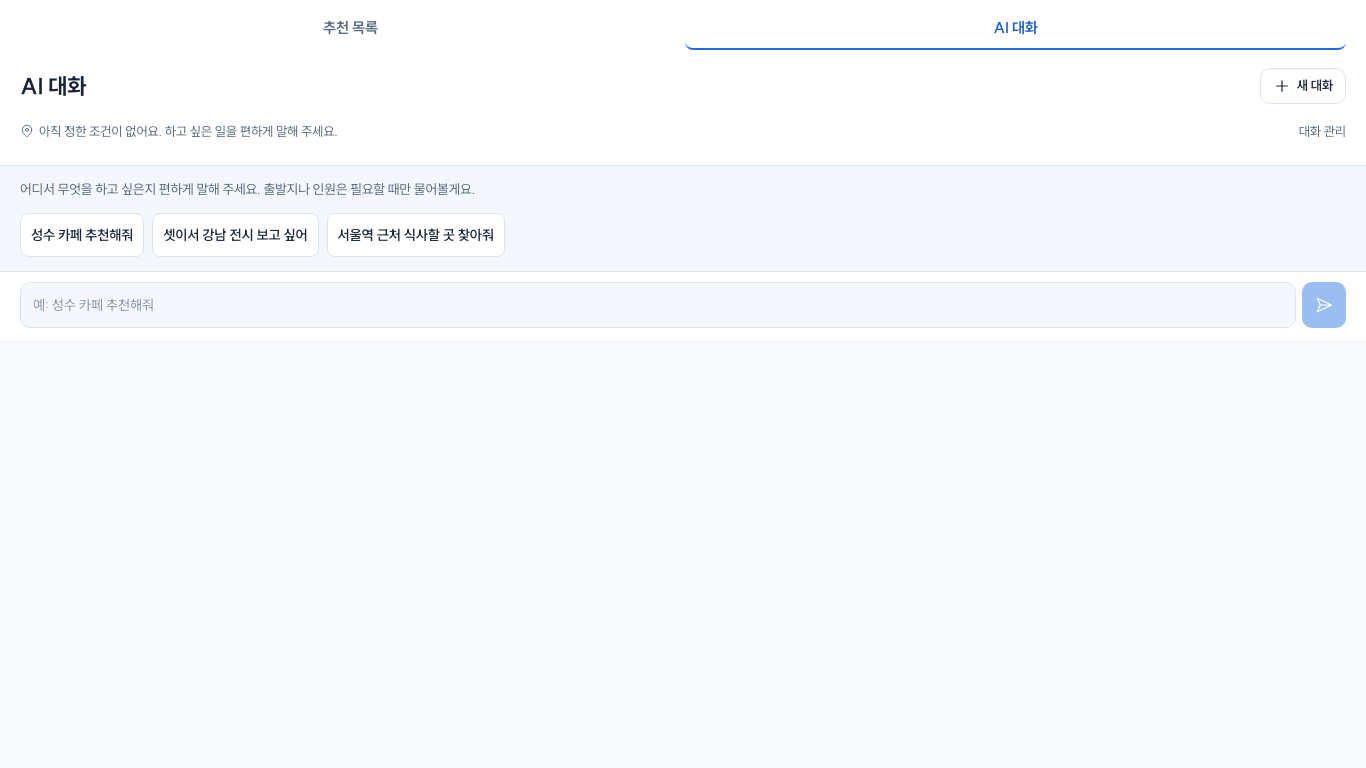
ChatPanel › UI-01 자유 입력으로 지역 카드를 받고, 가짜 이동시간 없이 표시 순서임을 알린다
Type "성수 카페 추천해줘" into the field named "AI에게 보낼 메시지". click: (658, 305)
box: [20, 282, 1296, 328]
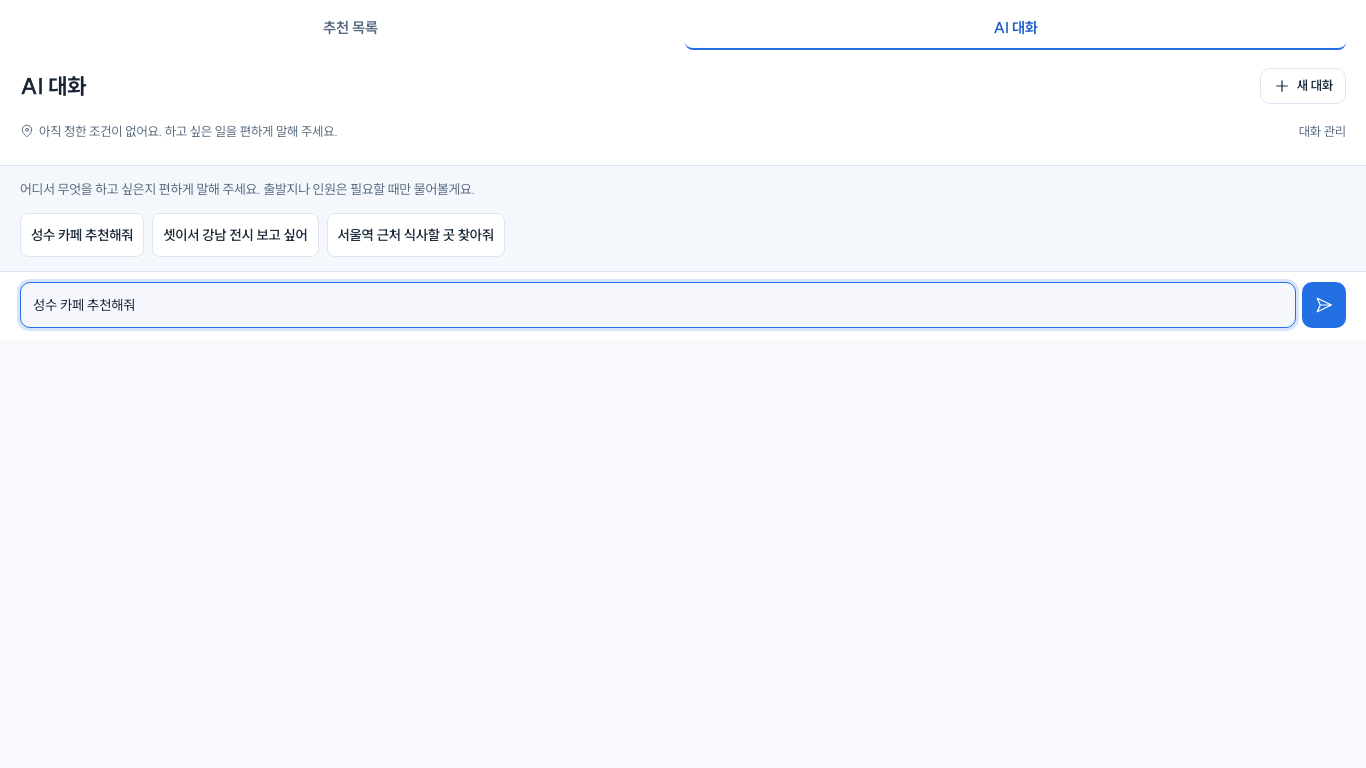
Click the button named "보내기". click: (1324, 305)
box: [1302, 282, 1346, 328]
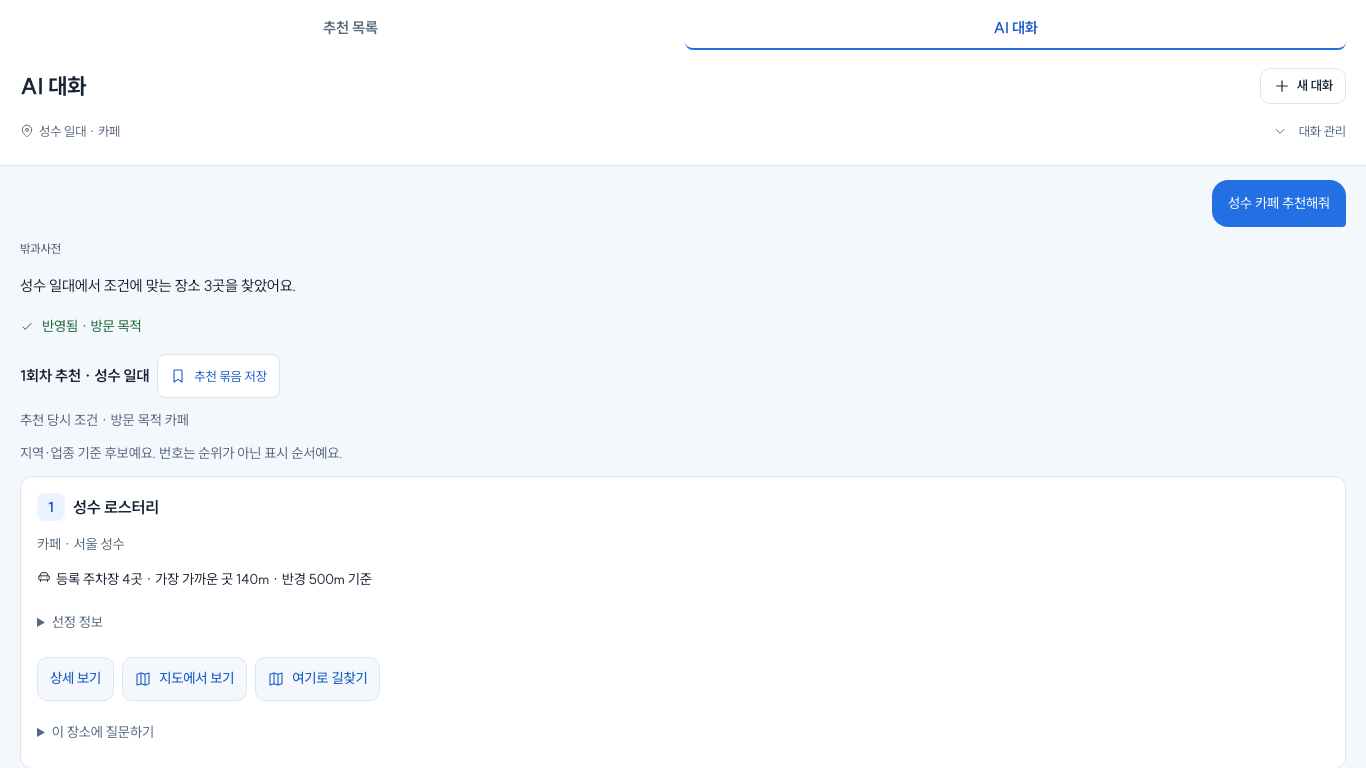
Expected: the text "지역·업종 기준 후보예요. 번호는 순위가 아닌 표시 순서예요." is shown, [20, 444, 343, 462]
Expected: the text "등록 주차장 4곳 · 가장 가까운 곳 140m · 반경 500m 기준" is shown, [56, 568, 372, 592]
Expected: the text "성수 일대 · 카페" is shown, [39, 123, 120, 139]
